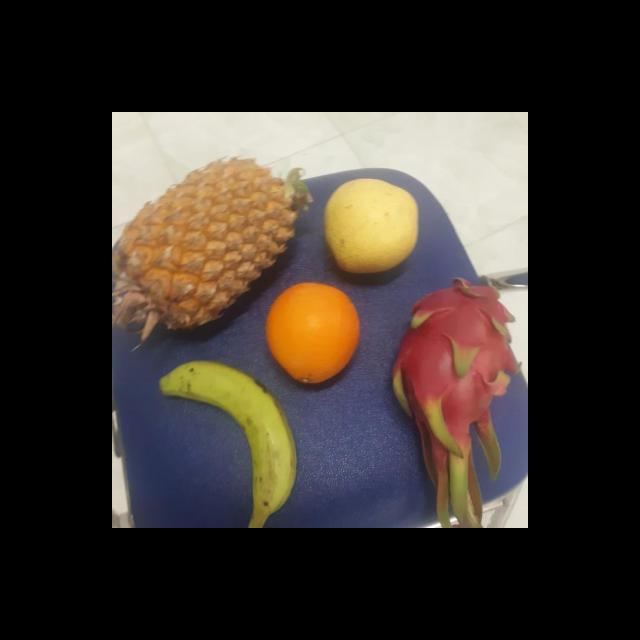banana: (168, 364, 305, 520)
orange: (264, 283, 364, 386)
pear: (323, 174, 421, 272)
pineapple: (118, 160, 314, 338)
pitaya: (392, 281, 521, 451)
